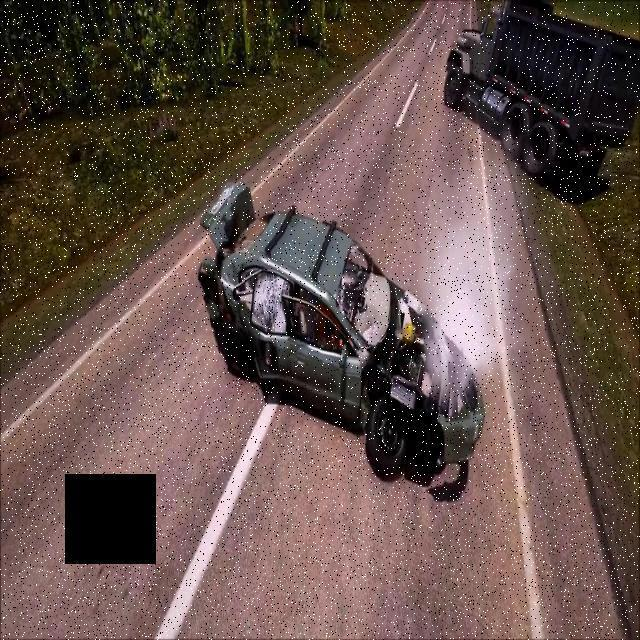multiple_accident: (229, 29, 625, 517)
